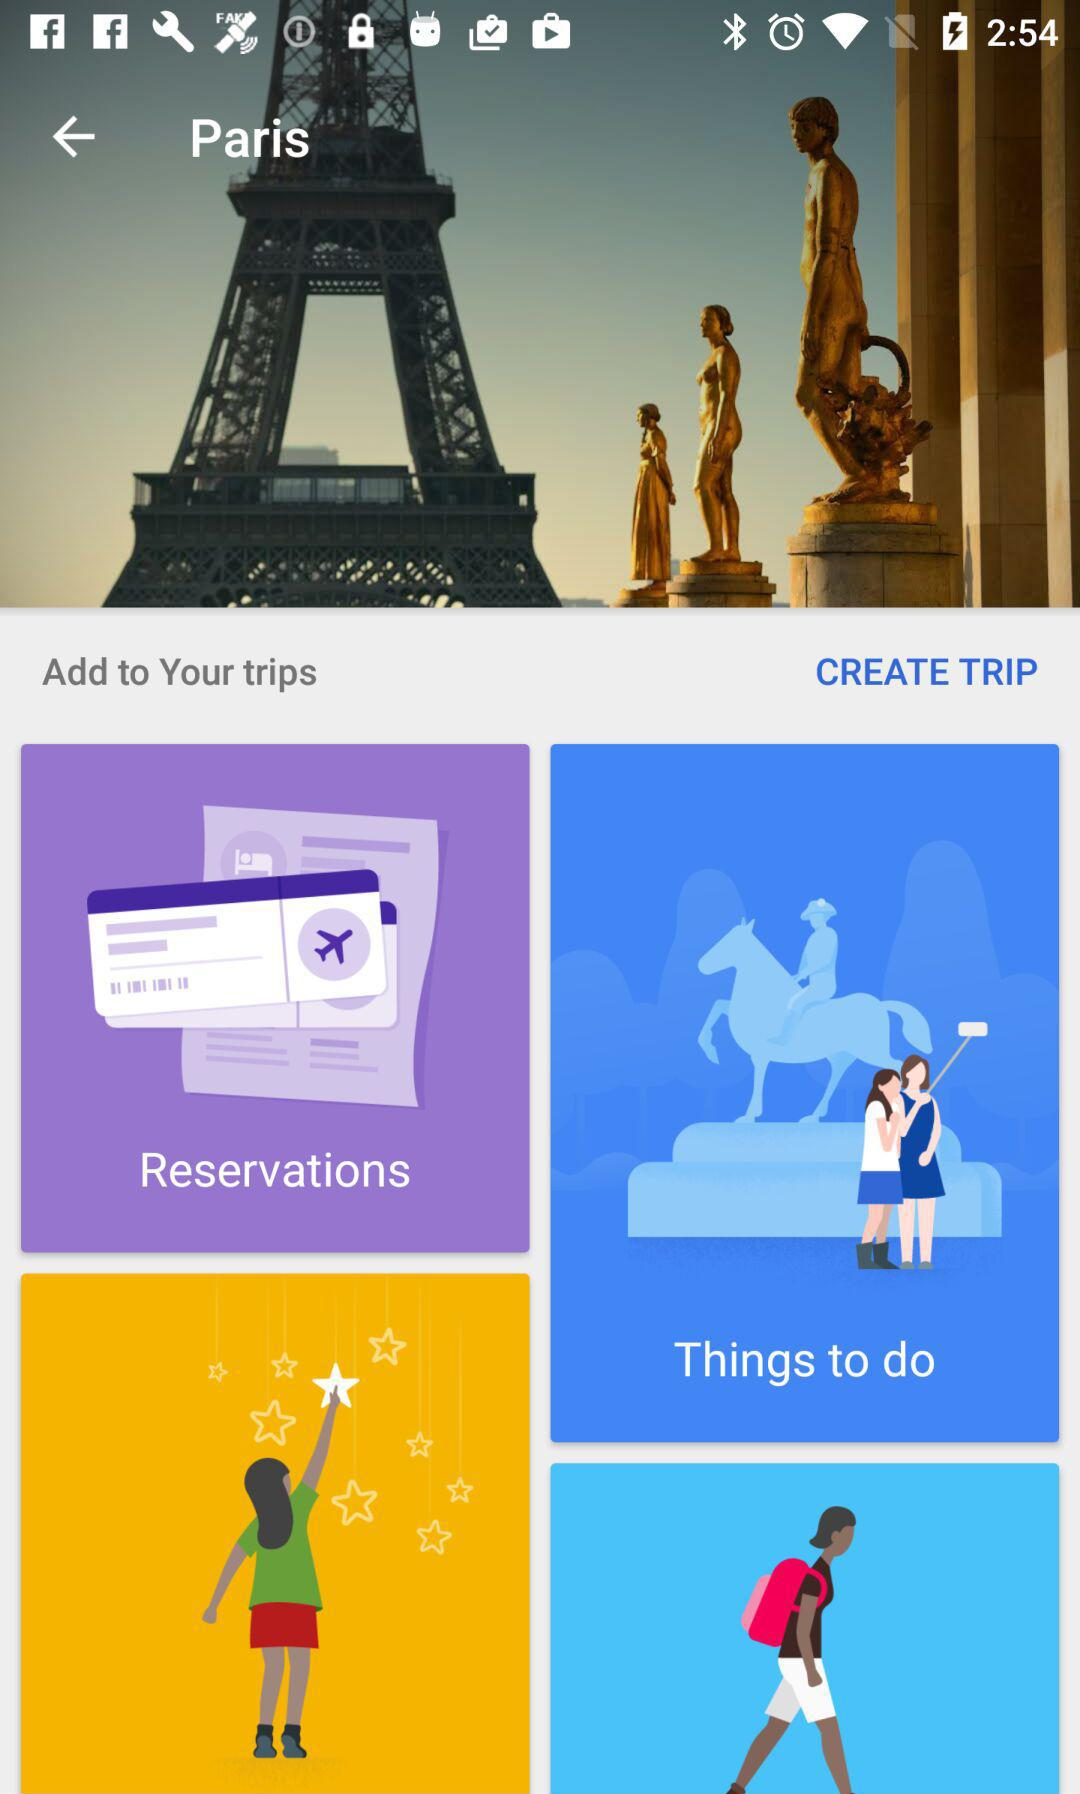Icon: (51, 114, 97, 160)
Image: (1, 56, 1080, 609), (551, 745, 1060, 1443), (20, 1272, 530, 1794), (20, 745, 530, 1253), (551, 1463, 1060, 1794)
Text: (673, 1339, 937, 1388), (41, 655, 319, 695), (141, 1151, 411, 1190), (816, 657, 1039, 687), (192, 117, 311, 161)
UpperTaskBar: (1, 1, 1080, 56)
